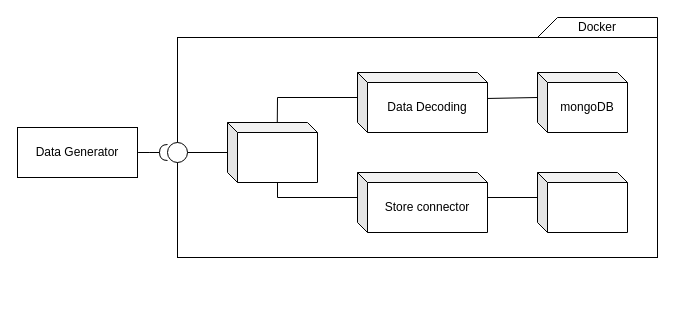
Image size: 675x335. Some labels were removed from this diagram. The centre of each missing label's shape, as x and y in pixels:
MinIO: (x=582, y=202)
Mosquitto: (x=272, y=152)
